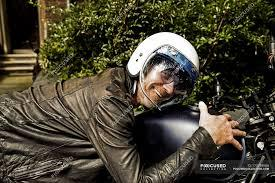helmet: (124, 28, 210, 96)
